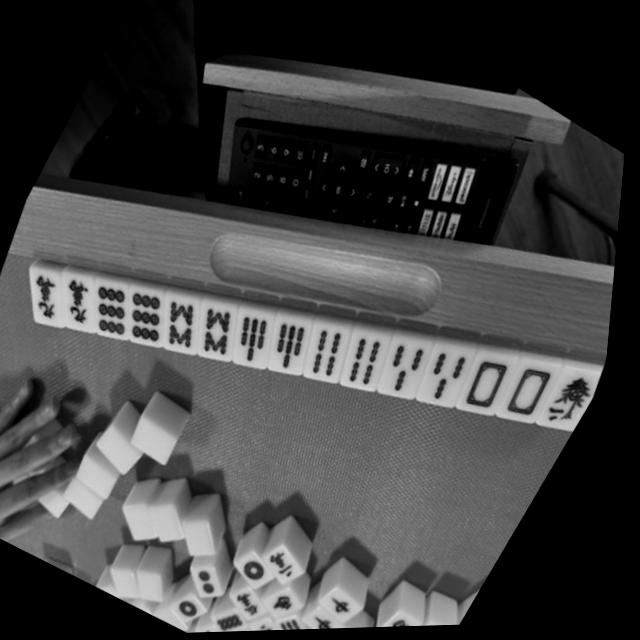bs2: (533, 343, 615, 436)
hdw: (492, 337, 585, 432), (453, 332, 540, 421)
sb3: (411, 322, 499, 411), (369, 316, 455, 403)
sb4: (329, 311, 412, 395), (293, 304, 374, 387)
sb7: (256, 301, 335, 380), (221, 296, 296, 371)
sb8: (148, 282, 223, 358), (184, 289, 257, 362)
sc9: (46, 261, 115, 331), (13, 257, 81, 325)
sd9: (74, 264, 154, 343), (111, 273, 191, 351)
